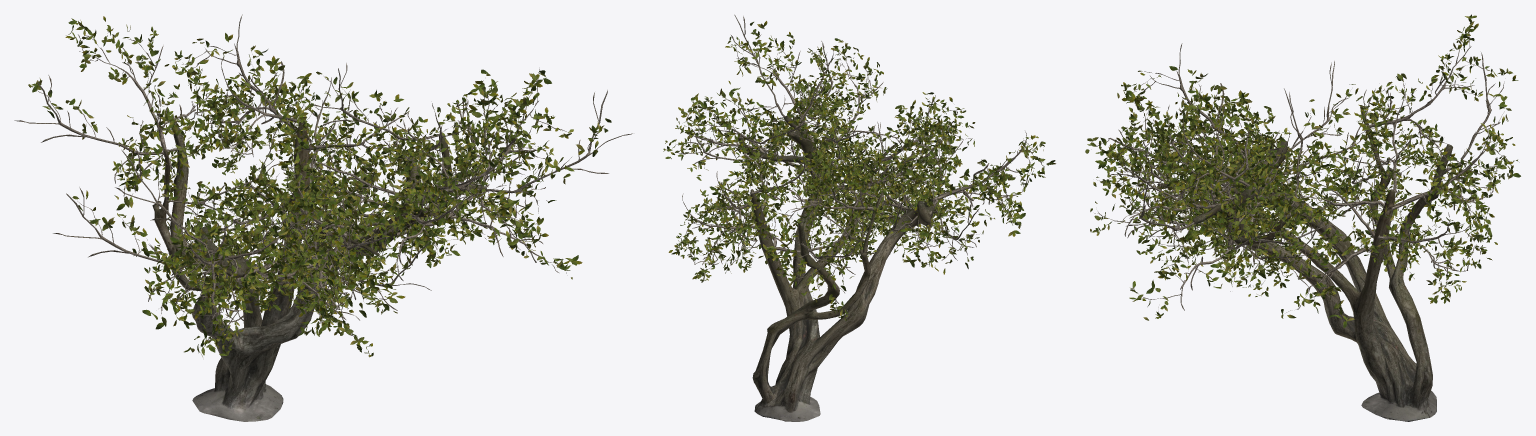
File: raintree.glb
3 renders of one model, left to right at view 1: azimuth 30°, elevation 25°; view 2: azimuth 150°, elevation 25°; view 3: azimuth 270°, elevation 25°, orthographic. The views are drawn at different scales.
Visible parts, largest first — view 1: island_tree_02_LOD0; view 2: island_tree_02_LOD0; view 3: island_tree_02_LOD0.
Part boxes in pixels (<box>): island_tree_02_LOD0: <box>14,14,632,421</box>; island_tree_02_LOD0: <box>663,14,1055,421</box>; island_tree_02_LOD0: <box>1085,14,1520,421</box>.
Bounding box in the file's own units: 4.21 × 3.4 × 4.01.
3 materials, 3 textured.
